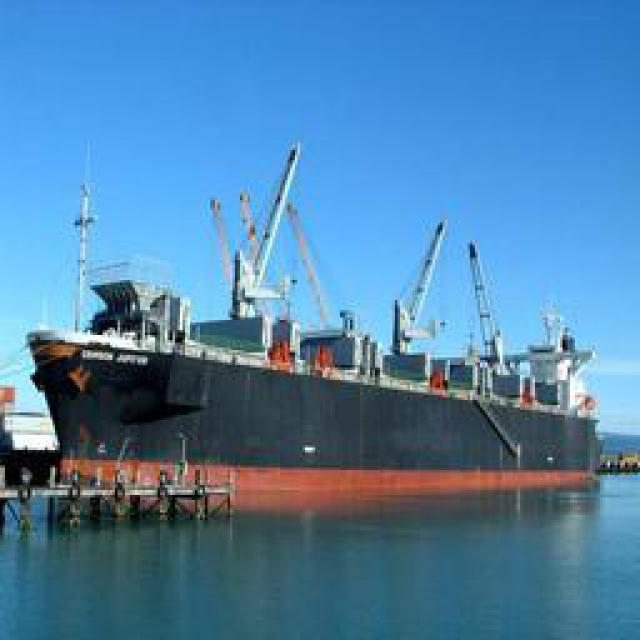Ship: (33, 139, 608, 509)
